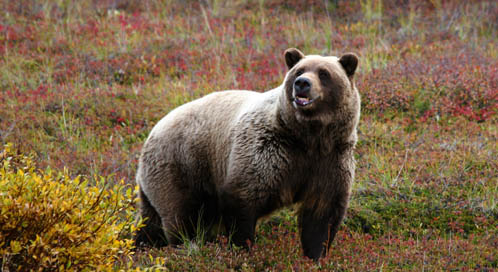bear: (277, 45, 360, 113)
